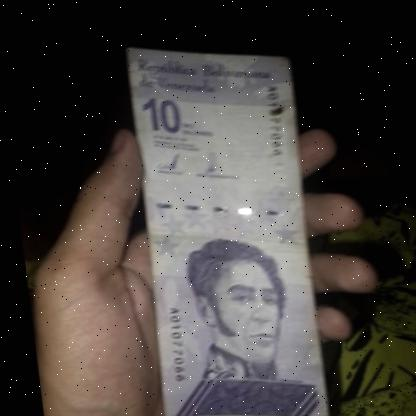ten-front-vef: (117, 41, 324, 416)
